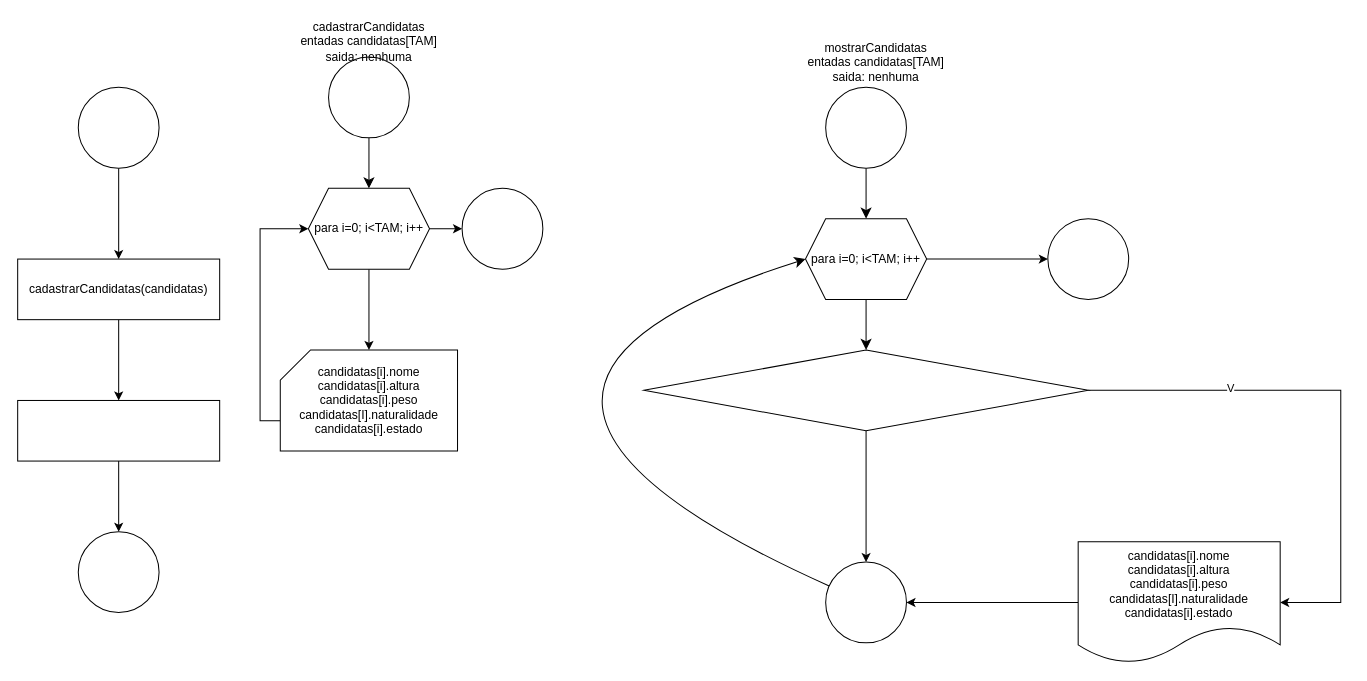
The diagram is 1367 pixels wide and 681 high, and some of its shapes have lost their labels. The shapes that lost their labels are listed below. From the top down, each one's centre as x and y in pixels, then its label:
[865,390]: candidatas[i].altura >= 1,85 && candidatas.[i].estado == "SP
[118,430]: mostrarCandidatas(candidatas)
